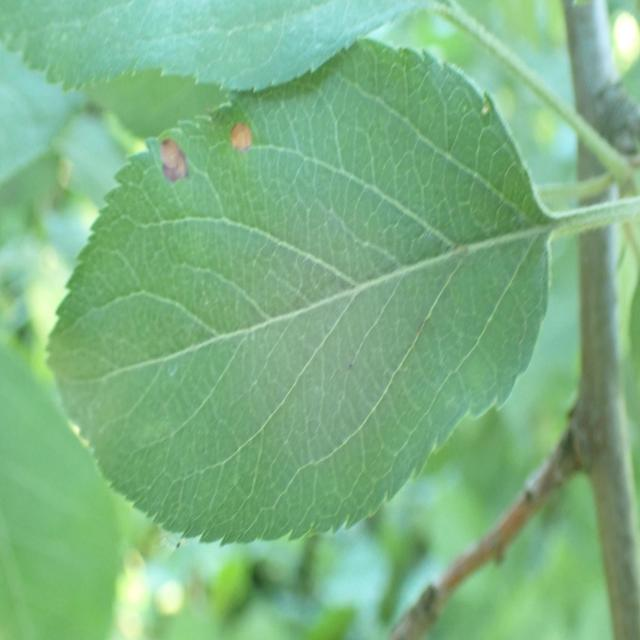frog-eye-leaf-spot: (44, 37, 555, 548)
